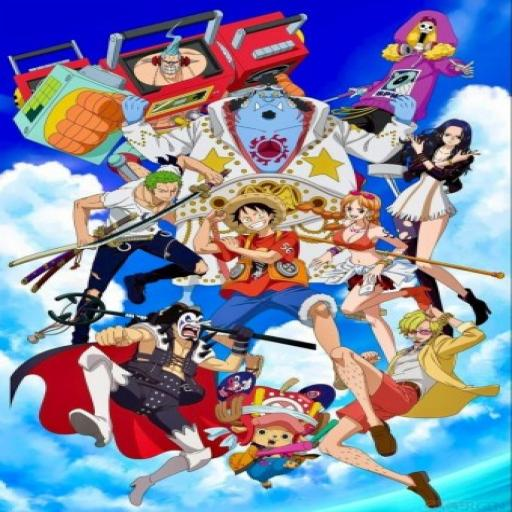Luffy: (218, 191, 289, 234)
Nami: (331, 188, 391, 230)
NicoRobin: (420, 114, 487, 160)
Zoro: (143, 171, 184, 205)
sanji: (396, 310, 444, 350)
